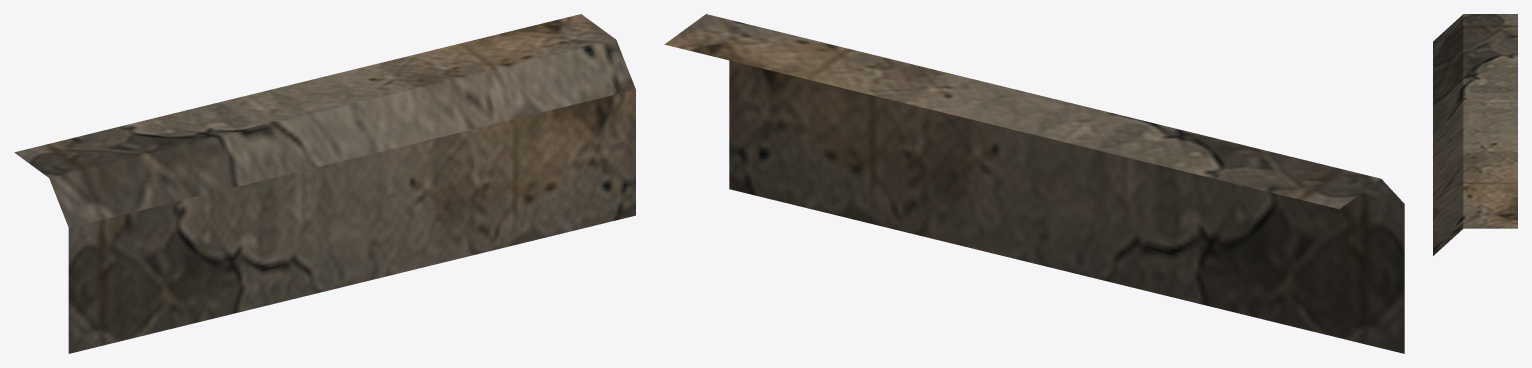
The model's file is foundation_concrete_2.fbx.
3 renders of one model, left to right at view 1: azimuth 30°, elevation 25°; view 2: azimuth 150°, elevation 25°; view 3: azimuth 270°, elevation 25°, orthographic. The views are drawn at different scales.
Parts seen in each view (by area): view 1: foundation_concrete_2; view 2: foundation_concrete_2; view 3: foundation_concrete_2.
Part boxes in pixels (x1=…): foundation_concrete_2: x1=14, y1=14, x2=635, y2=353; foundation_concrete_2: x1=664, y1=14, x2=1404, y2=353; foundation_concrete_2: x1=1433, y1=14, x2=1517, y2=255.
Size of the model in its own units: 3 by 0.8165 by 0.5012.
